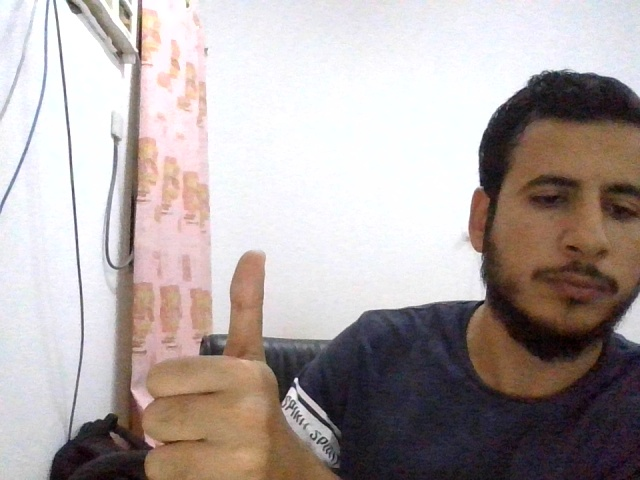One: (141, 248, 290, 480)
